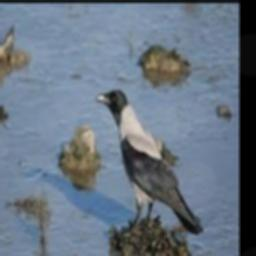Crow: (93, 88, 203, 235)
